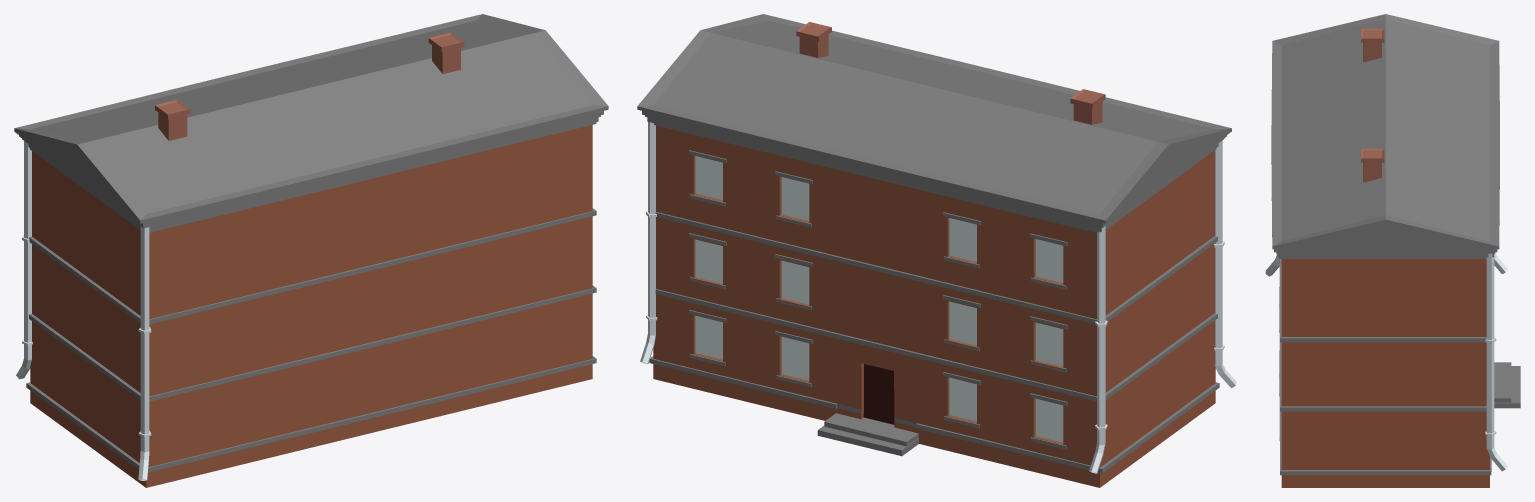
The model's file is domkirpic.fbx.
3 renders of one model, left to right at view 1: azimuth 30°, elevation 25°; view 2: azimuth 150°, elevation 25°; view 3: azimuth 270°, elevation 25°, orthographic. The views are drawn at different scales.
Parts seen in each view (by area): view 1: Cube, Cylinder.002, Cube.001, Cylinder.001; view 2: Cube, Cylinder.001, Cylinder.002, Cylinder, Cube.001; view 3: Cube, Cylinder, Cube.001.
Part boxes in pixels (x1,y1,x2,y2): Cube: (14,14,608,487); Cylinder.002: (138,226,151,480); Cube.001: (155,32,464,140); Cylinder.001: (16,140,32,379); Cube: (637,14,1231,487); Cylinder.001: (1089,226,1107,473); Cylinder.002: (1214,140,1236,388); Cylinder: (640,122,657,364); Cube.001: (796,22,1105,124); Cube: (1271,14,1520,487); Cylinder: (1485,253,1507,471); Cube.001: (1361,28,1384,182).
Bounding box in the file's own units: 1356 × 894 × 706.
